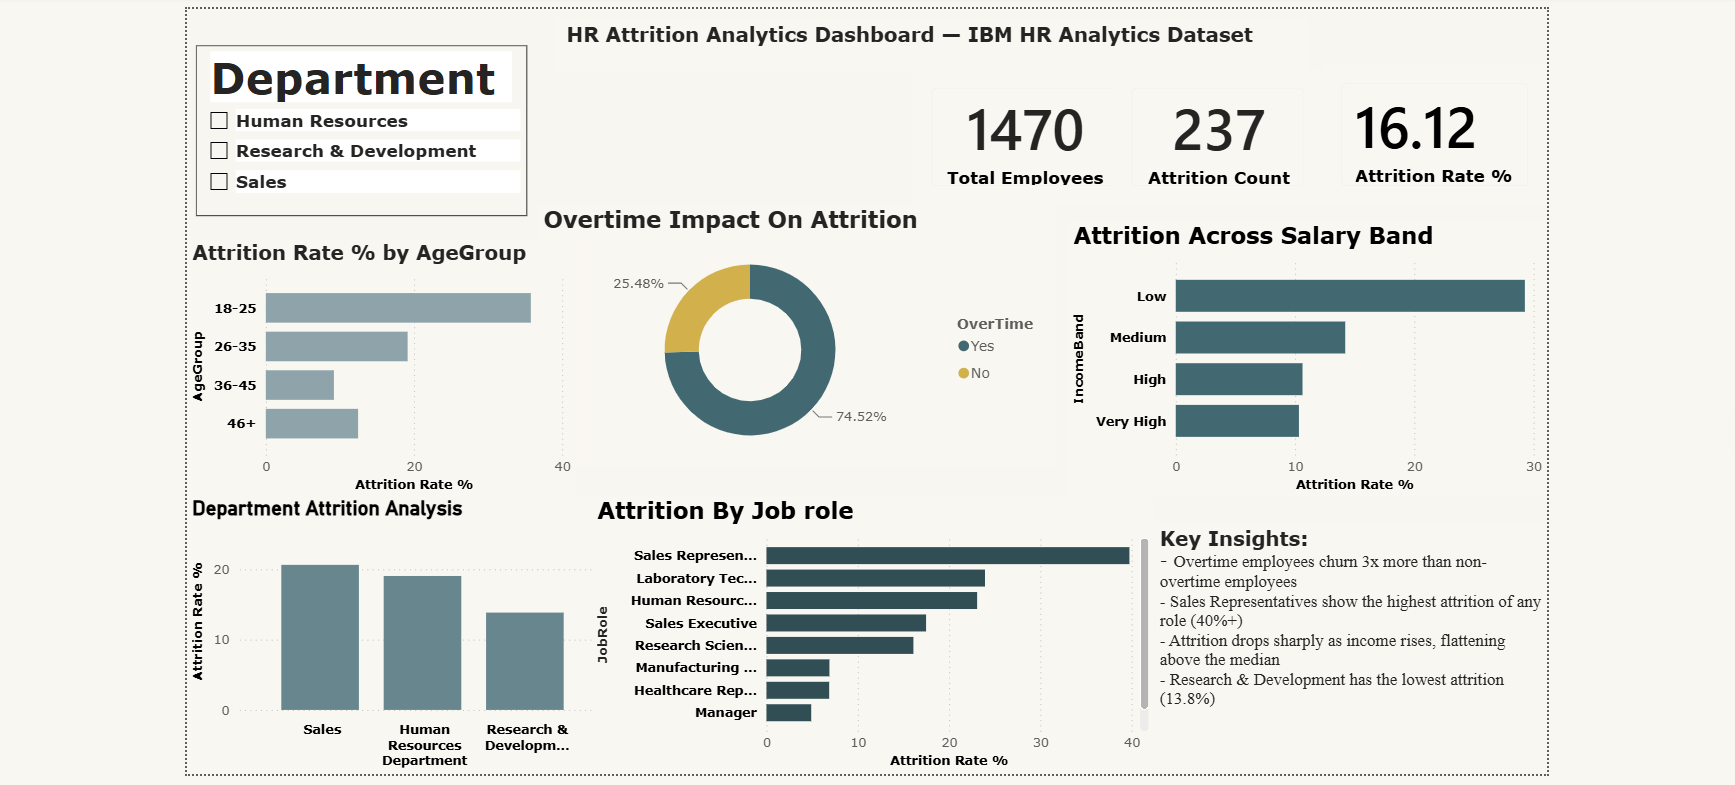

This screenshot's page, from the dashboard's own definition file:
{"tool":"powerbi","page":{"name":"Page 1","canvas":[1280,720],"ordinal":0},"visuals":[{"type":"cardVisual","fields":{"Data":["employees.Total Employees"]},"box":[683.7,58.1,209.3,126.7],"z":0},{"type":"cardVisual","fields":{"Data":["employees.Attrition Count"]},"box":[872.1,58.1,197.7,126.7],"z":1000},{"type":"cardVisual","fields":{"Data":["employees.Attrition Rate %"]},"box":[1069.8,53.5,210.5,131.4],"z":2000},{"type":"columnChart","title":"Department Attrition Analysis","fields":{"Category":["employees.Department"],"Y":["employees.Attrition Rate %"]},"box":[0,459.3,402.3,260.5],"z":3000},{"type":"donutChart","title":"Overtime Impact On Attrition","fields":{"Category":["employees.OverTime"],"Y":["employees.Attrition Rate %"]},"box":[330.2,184.9,486,246.5],"z":4000},{"type":"clusteredBarChart","title":"Attrition Across Salary Band","fields":{"Category":["employees.IncomeBand"],"Y":["employees.Attrition Rate %"]},"box":[829.1,200,451.2,259.3],"z":5000},{"type":"clusteredBarChart","title":"Attrition By Job role","fields":{"Category":["employees.JobRole"],"Y":["employees.Attrition Rate %"]},"box":[381.4,459.3,529.1,260.5],"z":6000},{"type":"slicer","fields":{"Values":["employees.Department"]},"box":[8.1,33.7,311.6,160.5],"z":7000},{"type":"clusteredBarChart","fields":{"Category":["employees.AgeGroup"],"Y":["employees.Attrition Rate %"]},"box":[0,217.4,366.3,241.9],"z":8000},{"type":"textbox","box":[910.5,482.6,369.8,236],"z":9000},{"type":"textbox","box":[345.3,8.1,709.3,50],"z":10000}]}

Visuals, with their boxes on the page's 1280x720 design canvas (x1, y1, x2, y2). These are canvas units, not pixel positions in the 1735x785 screenshot, which may show the page scaled, cropped or inside an application window:
cardVisual - employees.Total Employees: rect(684, 58, 893, 185)
cardVisual - employees.Attrition Count: rect(872, 58, 1070, 185)
cardVisual - employees.Attrition Rate %: rect(1070, 54, 1280, 185)
"Department Attrition Analysis" columnChart: rect(0, 459, 402, 720)
"Overtime Impact On Attrition" donutChart: rect(330, 185, 816, 431)
"Attrition Across Salary Band" clusteredBarChart: rect(829, 200, 1280, 459)
"Attrition By Job role" clusteredBarChart: rect(381, 459, 910, 720)
slicer - employees.Department: rect(8, 34, 320, 194)
clusteredBarChart - employees.AgeGroup x employees.Attrition Rate %: rect(0, 217, 366, 459)
textbox: rect(910, 483, 1280, 719)
textbox: rect(345, 8, 1055, 58)
